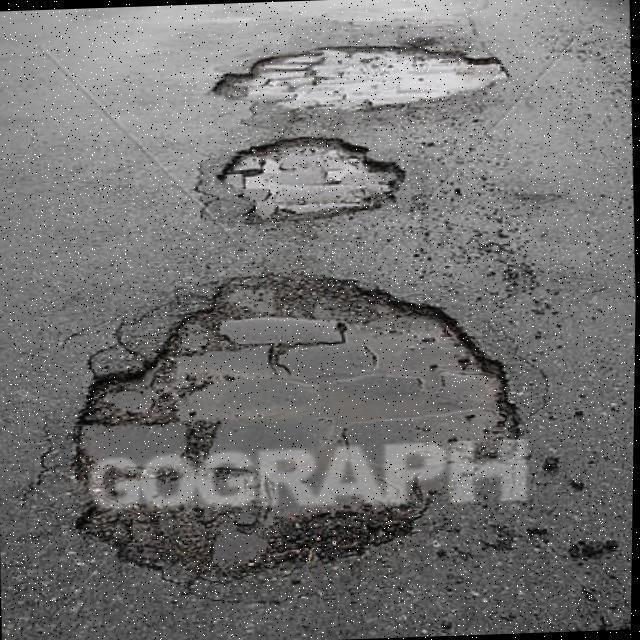Pothole: (83, 280, 509, 586), (219, 45, 514, 114), (200, 132, 409, 220)
